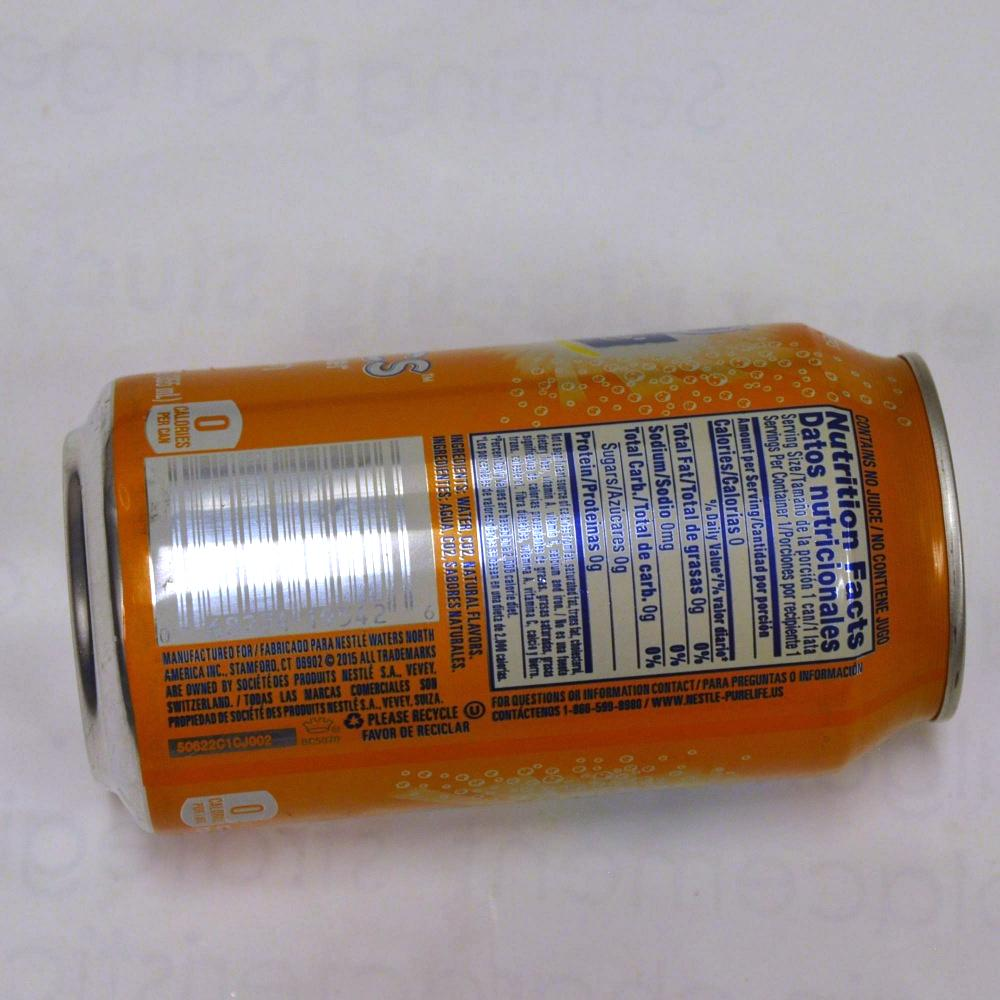Metal: (36, 288, 971, 913)
